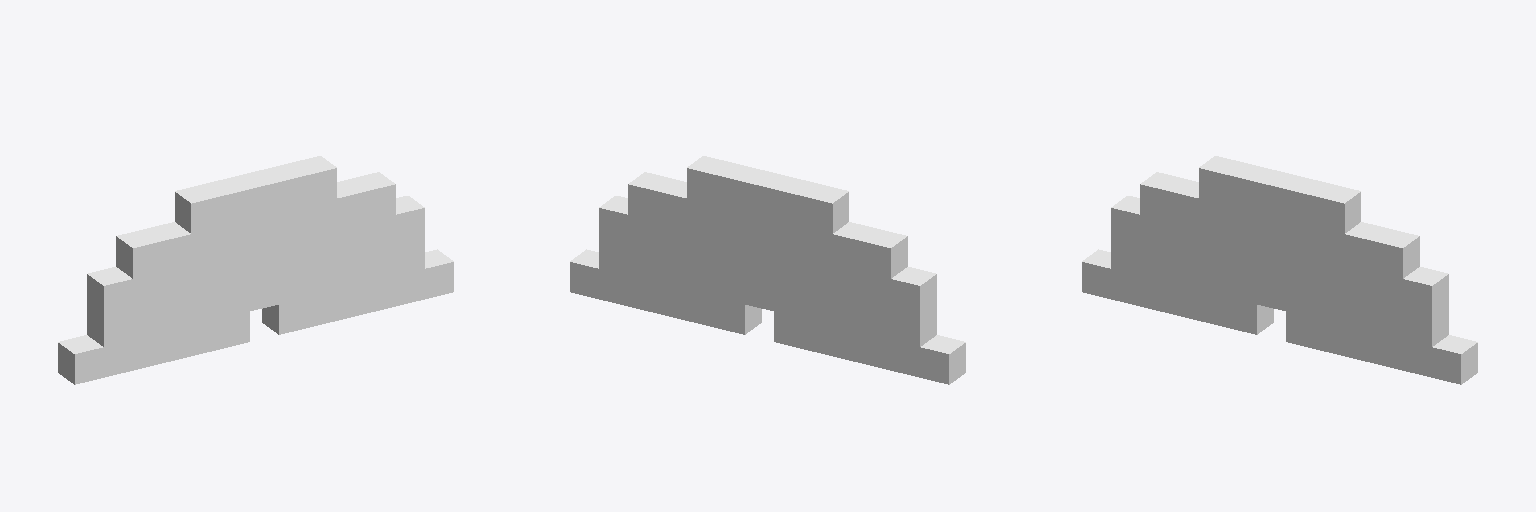
The model's file is grandpa death.obj.
3 renders of one model, left to right at view 1: azimuth 30°, elevation 25°; view 2: azimuth 150°, elevation 25°; view 3: azimuth 330°, elevation 25°, orthographic.
Visible parts, largest first — view 1: object 1; view 2: object 1; view 3: object 1.
Boxes of the visible parts, x1=… form: object 1: x1=58, y1=156, x2=453, y2=384; object 1: x1=570, y1=156, x2=965, y2=384; object 1: x1=1082, y1=156, x2=1477, y2=384.
Bounding box in the file's own units: 1.3 × 0.5 × 0.1.